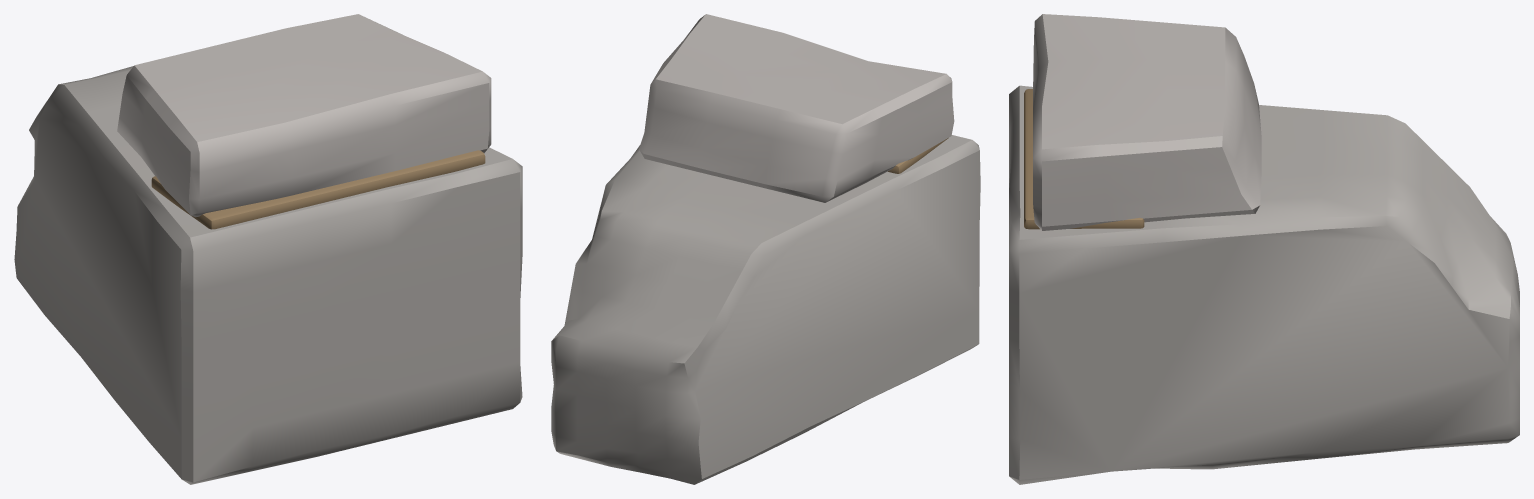
The model's file is SM_Area2_RimTooth_Small_B.glb.
3 views of the same model, side by side, from view 1: azimuth 30°, elevation 25°; view 2: azimuth 150°, elevation 25°; view 3: azimuth 270°, elevation 25° (orthographic). The views are drawn at different scales.
Parts seen in each view (by area): view 1: SM_Area2_RimTooth_Small_B; view 2: SM_Area2_RimTooth_Small_B; view 3: SM_Area2_RimTooth_Small_B.
Boxes of the visible parts, x1,y1,x2,y2 form: SM_Area2_RimTooth_Small_B: [14, 14, 522, 484]; SM_Area2_RimTooth_Small_B: [551, 14, 980, 484]; SM_Area2_RimTooth_Small_B: [1009, 14, 1519, 484].
Size of the model in its own units: 1.29 by 1.2 by 1.7.
